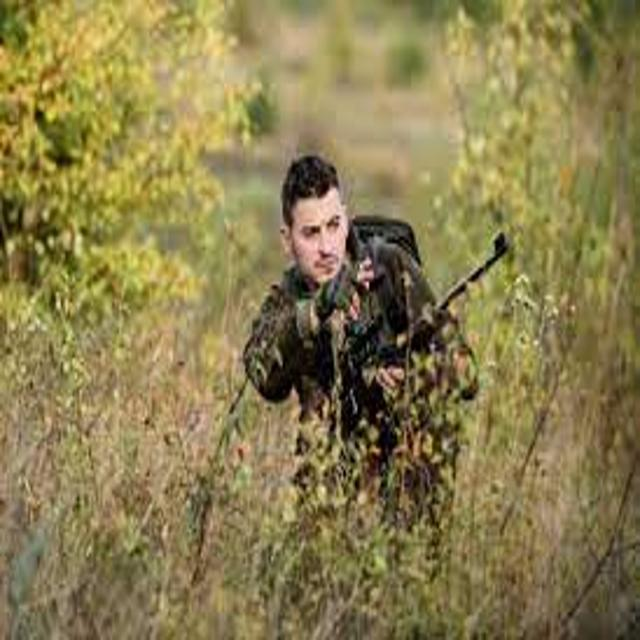poacher: (214, 108, 532, 576)
